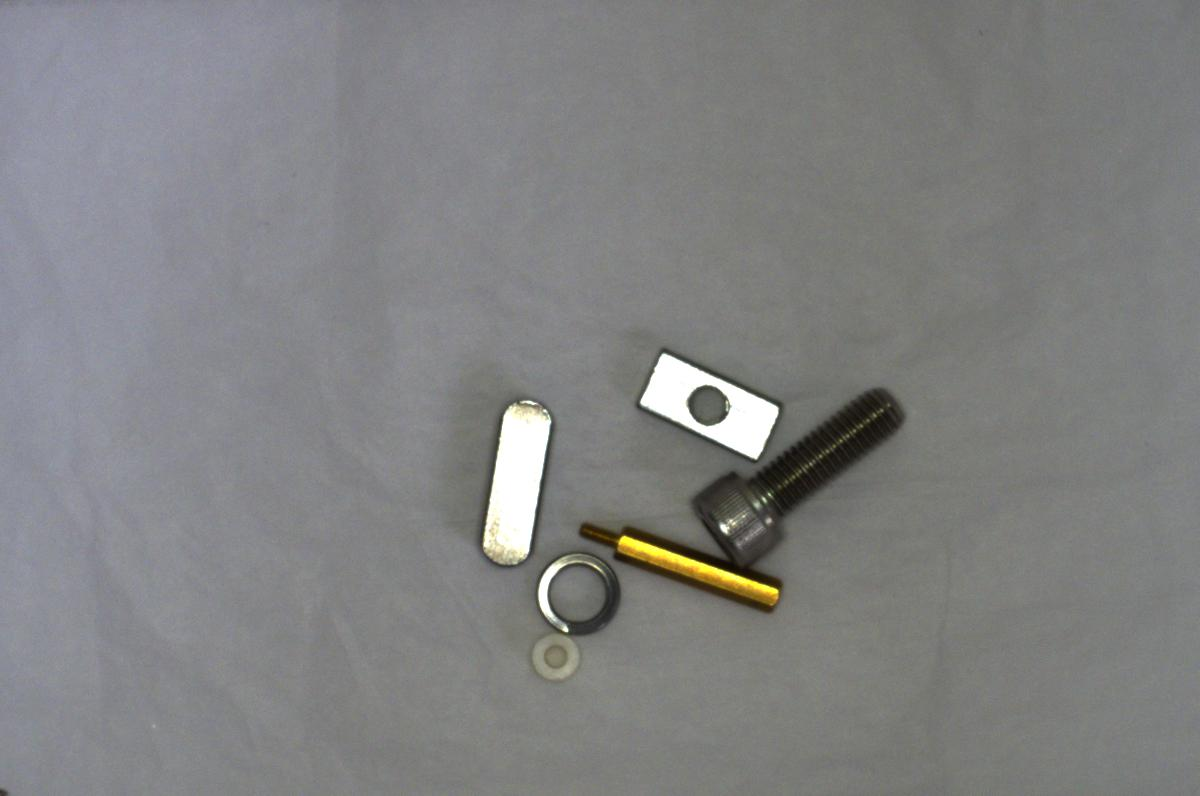Hexagon pillar: (574, 514, 792, 625)
Hexagon screw: (686, 383, 918, 567)
Keybar: (472, 387, 551, 563)
Plastic cushion pillar: (518, 627, 593, 685)
Rectangular nut: (634, 345, 777, 460)
Spring washer: (538, 546, 627, 636)
